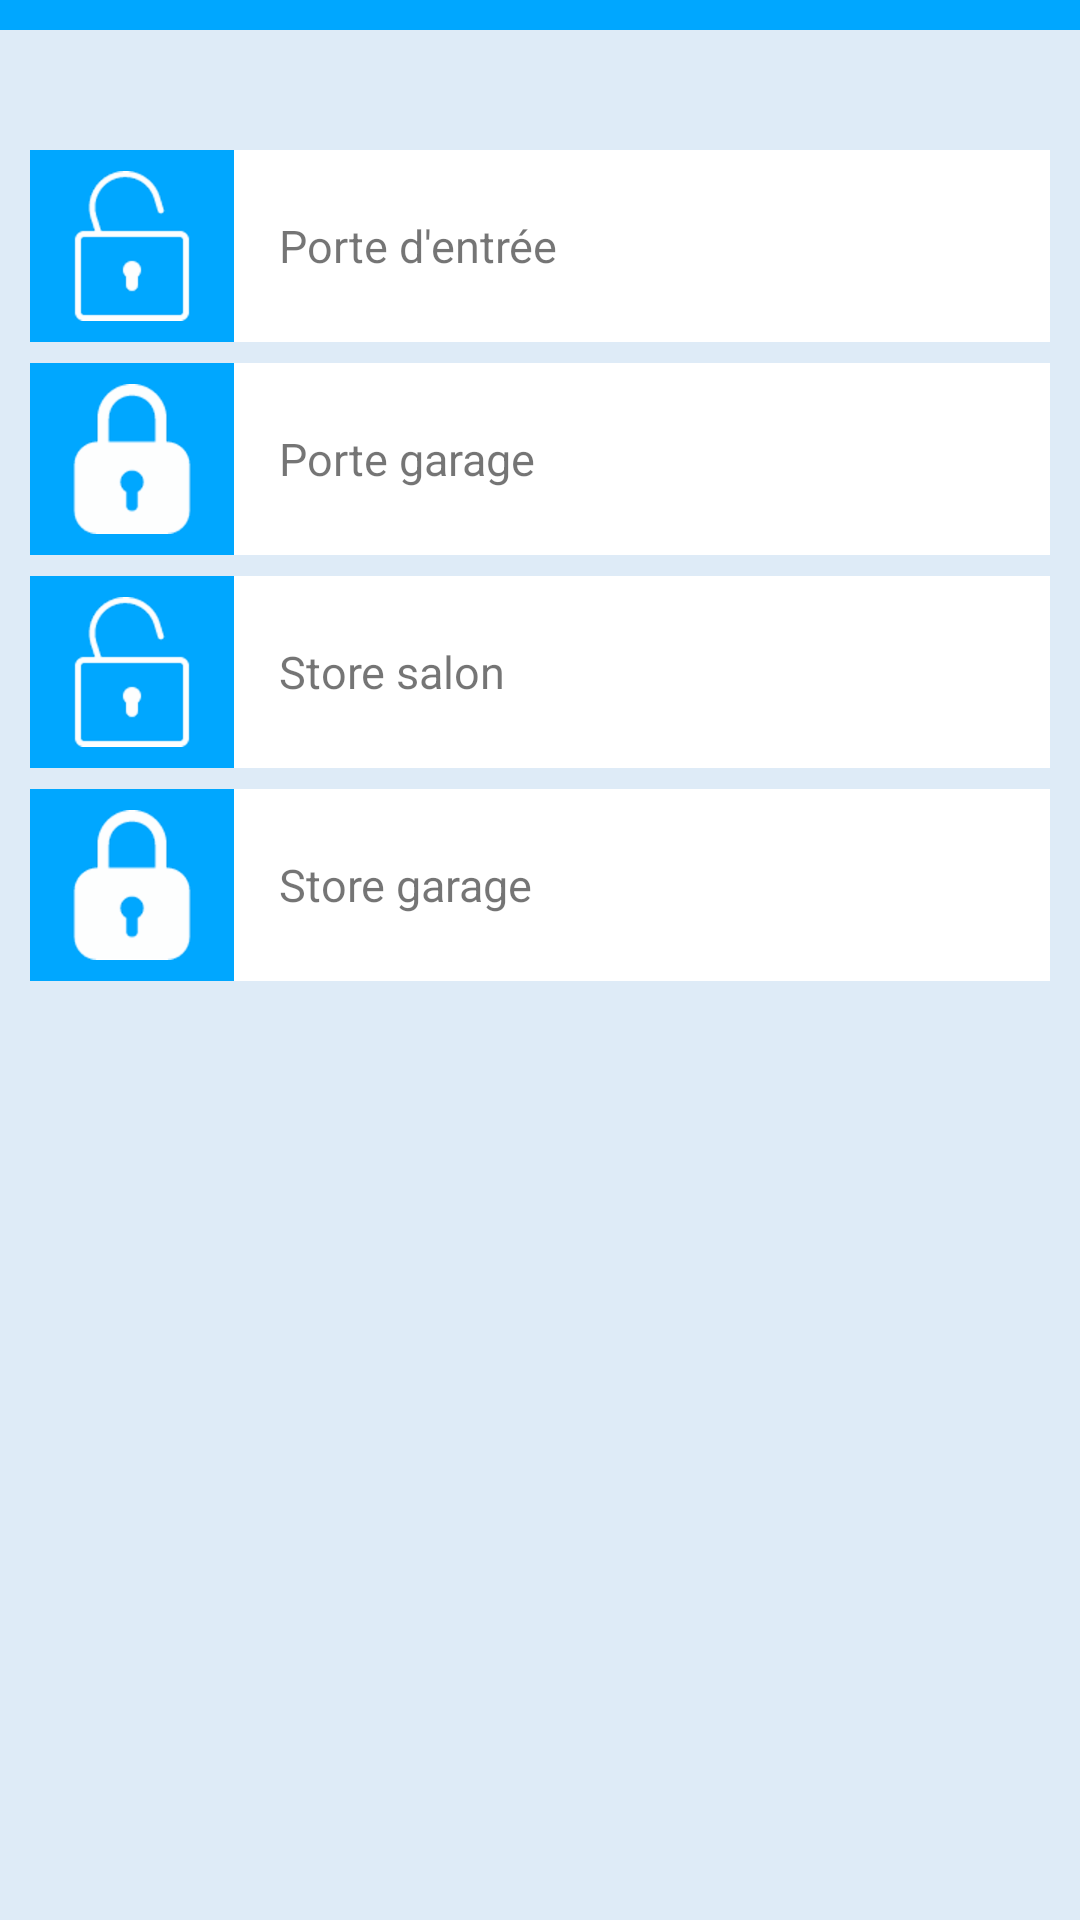

Icon bounding boxes for this 1080*1920 phone screenshot, format (x1, y1, x2, y2):
lock: (30, 363, 234, 555), (30, 789, 234, 981)
unlock: (30, 150, 234, 342), (30, 576, 234, 768)
